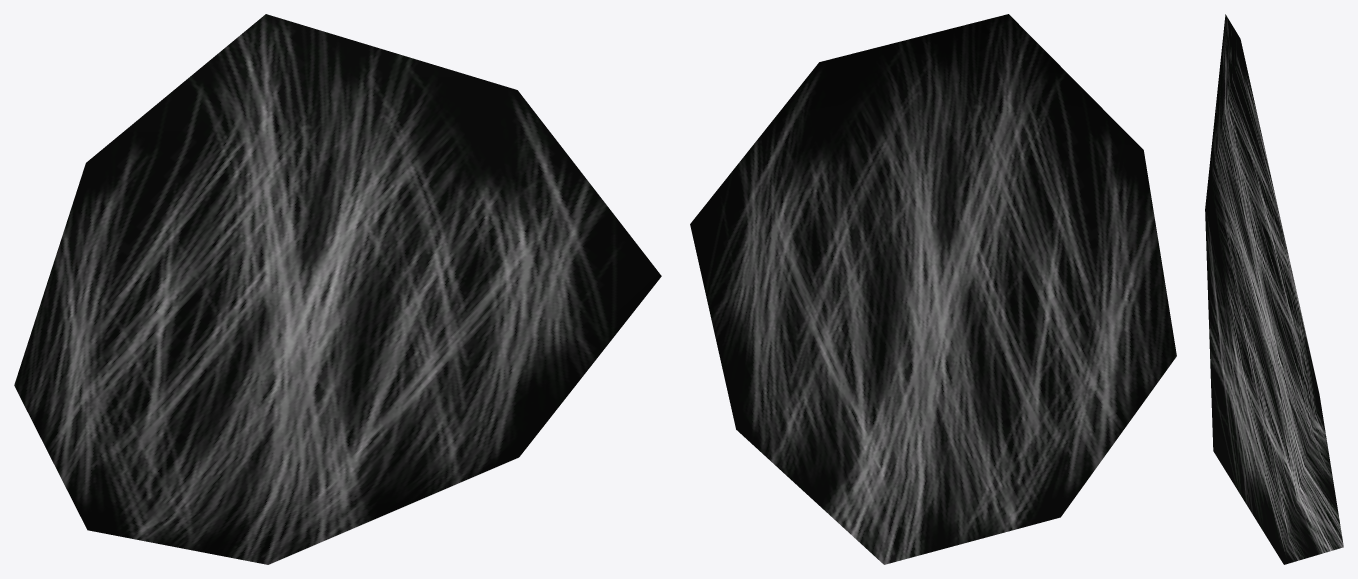
File: MIRKWOOD_SPIDERWEB_COVERS23.fbx
The picture shows the model from 3 angles, left to right: view 1: azimuth 30°, elevation 25°; view 2: azimuth 150°, elevation 25°; view 3: azimuth 270°, elevation 25°; orthographic projection. The views are drawn at different scales.
Visible parts, largest first — view 1: MIRKWOOD_SPIDERWEB_COVERS23; view 2: MIRKWOOD_SPIDERWEB_COVERS23; view 3: MIRKWOOD_SPIDERWEB_COVERS23.
Part boxes in pixels (left/top/right/bottom): MIRKWOOD_SPIDERWEB_COVERS23: left=14, top=14, right=661, bottom=564; MIRKWOOD_SPIDERWEB_COVERS23: left=690, top=14, right=1176, bottom=564; MIRKWOOD_SPIDERWEB_COVERS23: left=1205, top=14, right=1343, bottom=564.
Bounding box in the file's own units: 16096 × 15590 × 3895.
1 material, 1 textured.
